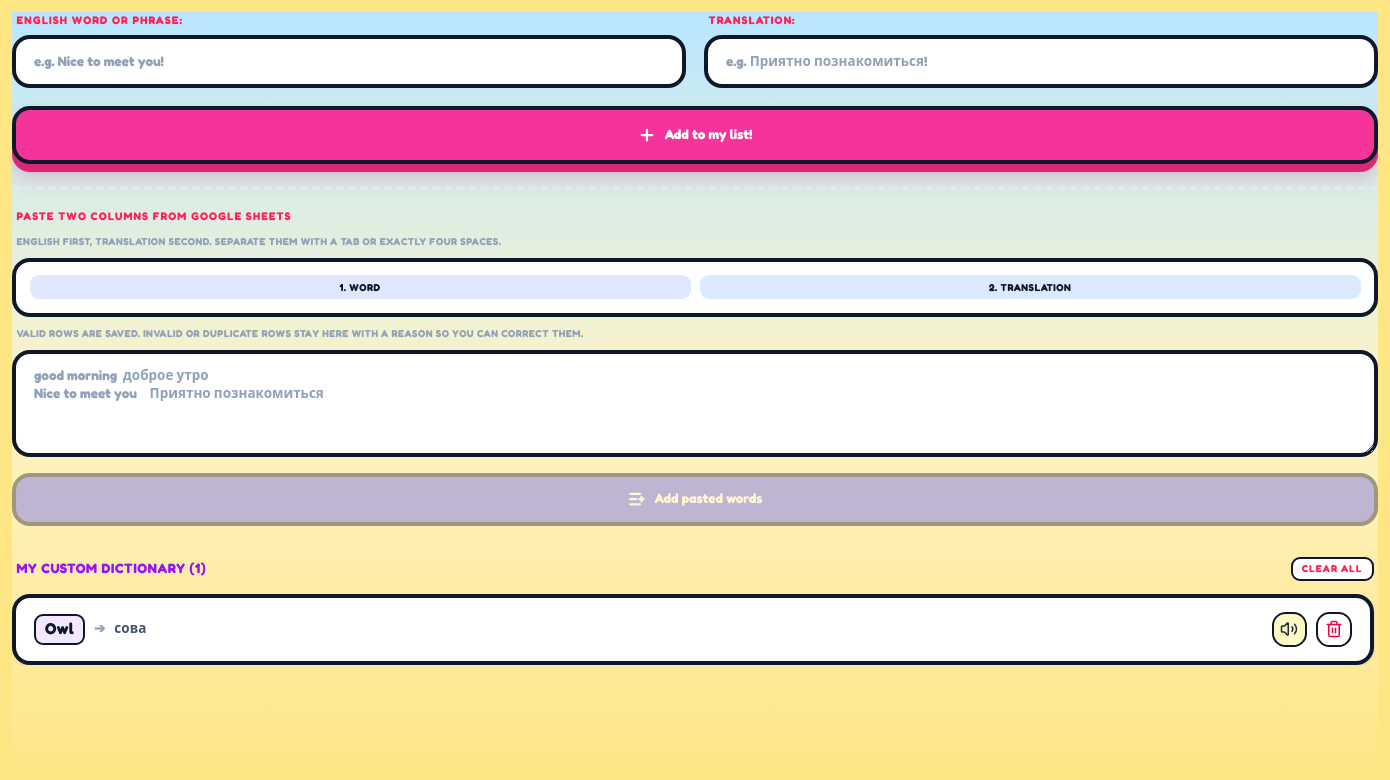
Test: CustomWordsManager paste import › does not add a duplicate entered in the single-word form
Type "owl" into the field with id "input-custom-english-word" at (349, 62), box 12,35 -> 686,88
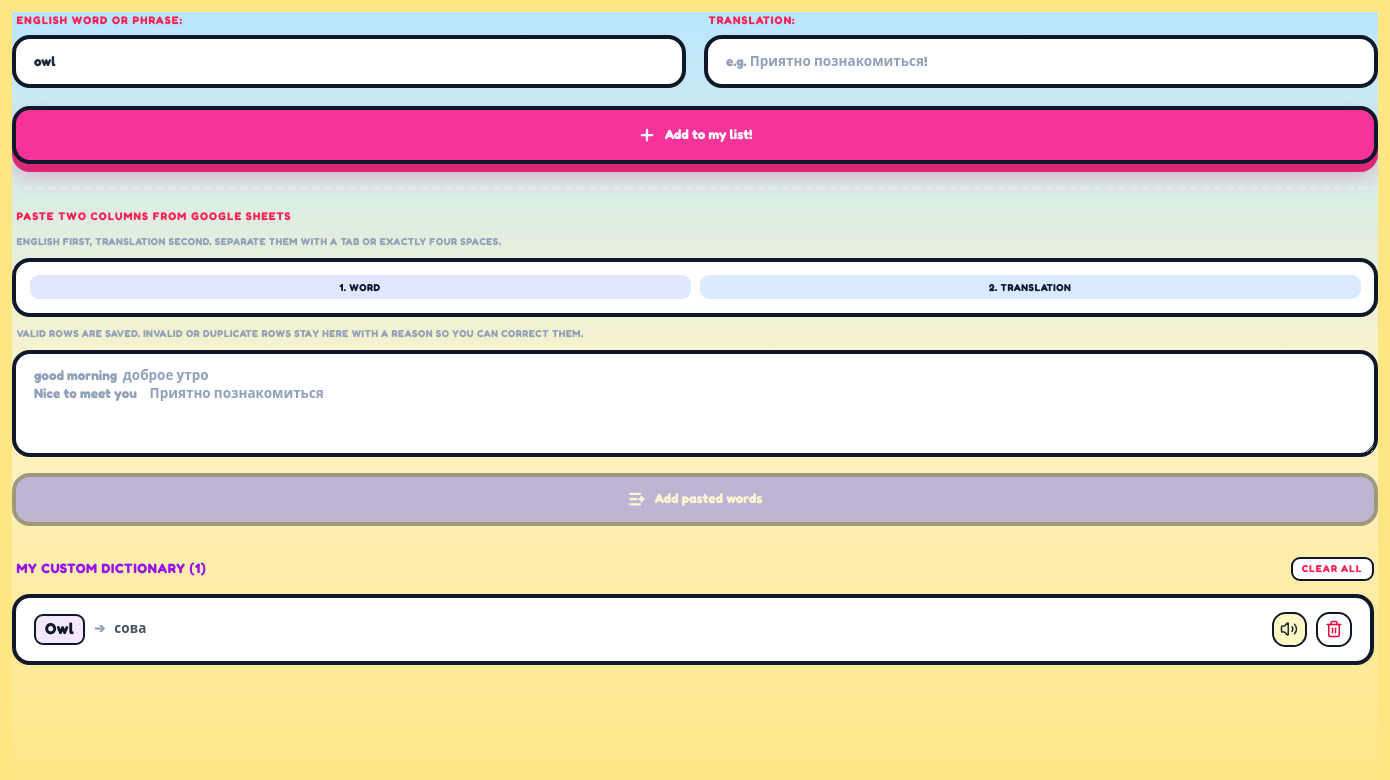
Type "сова" into the field with id "input-custom-russian-translation" at (1041, 62), box 704,35 -> 1378,88
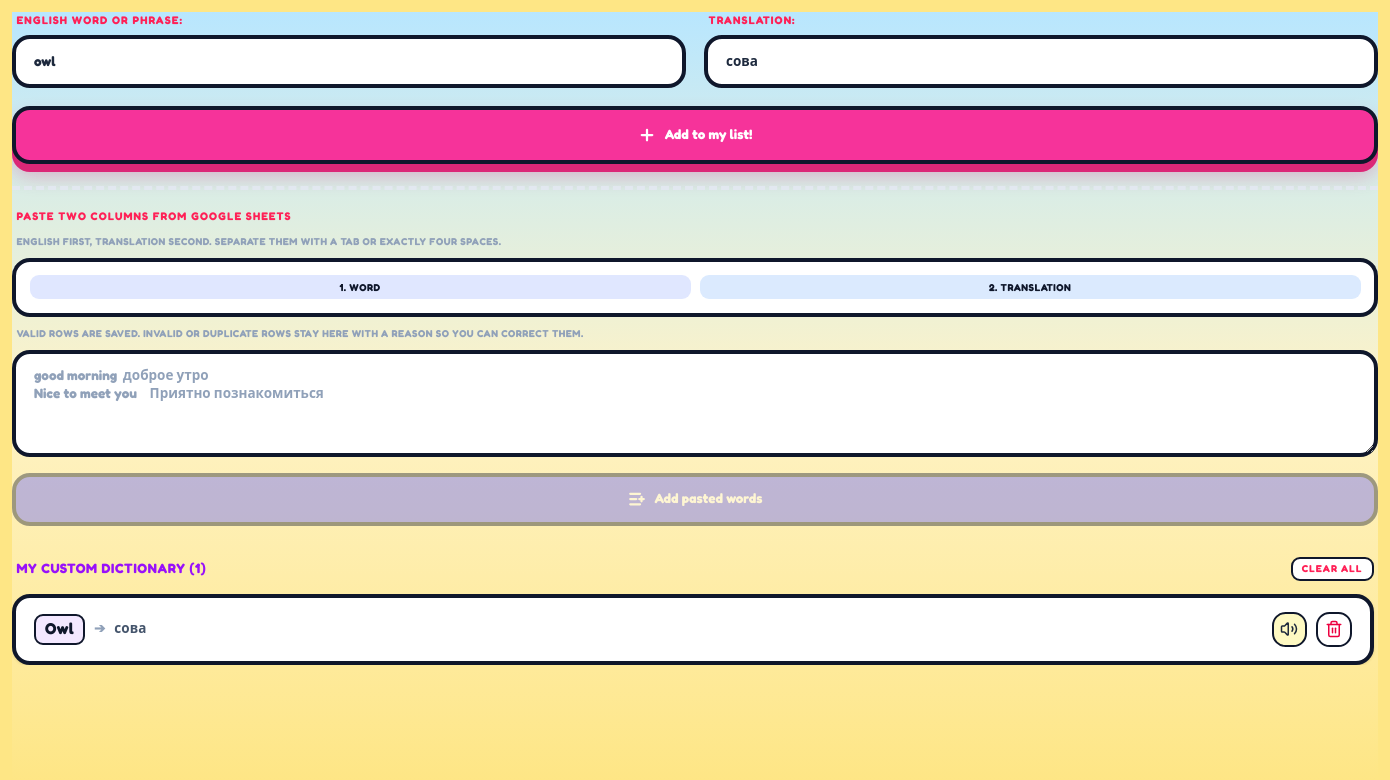
Click the button with id "btn-add-custom-word" at (695, 135), box 12,106 -> 1378,164
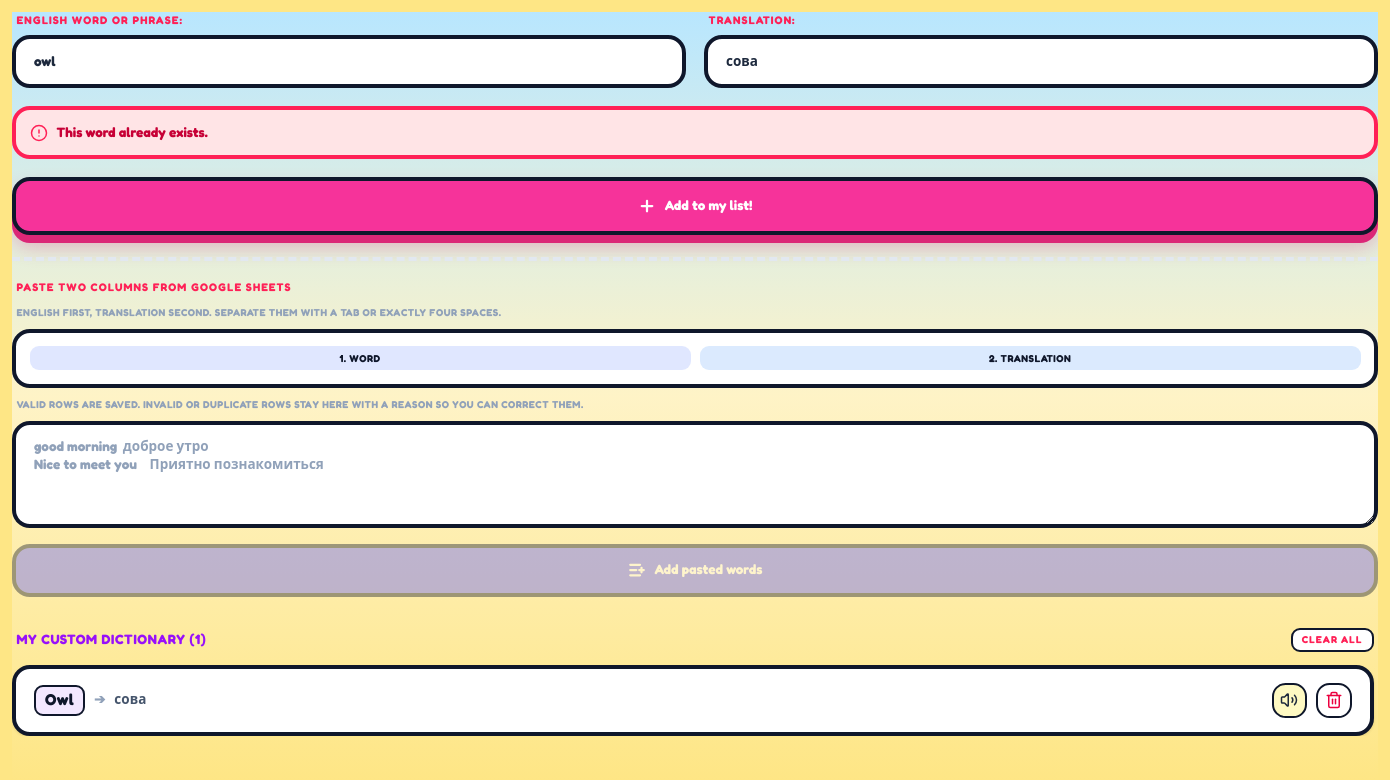
Result: the text "This word already exists." is shown at 12,106 -> 1378,159
